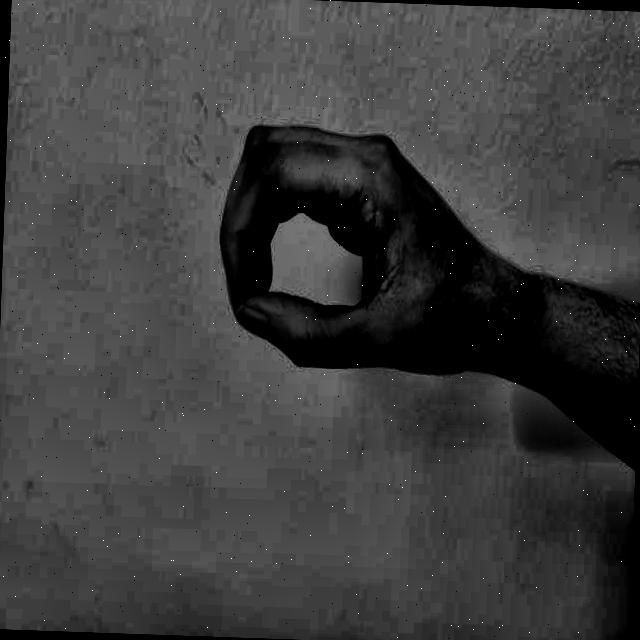O: (188, 92, 500, 407)
